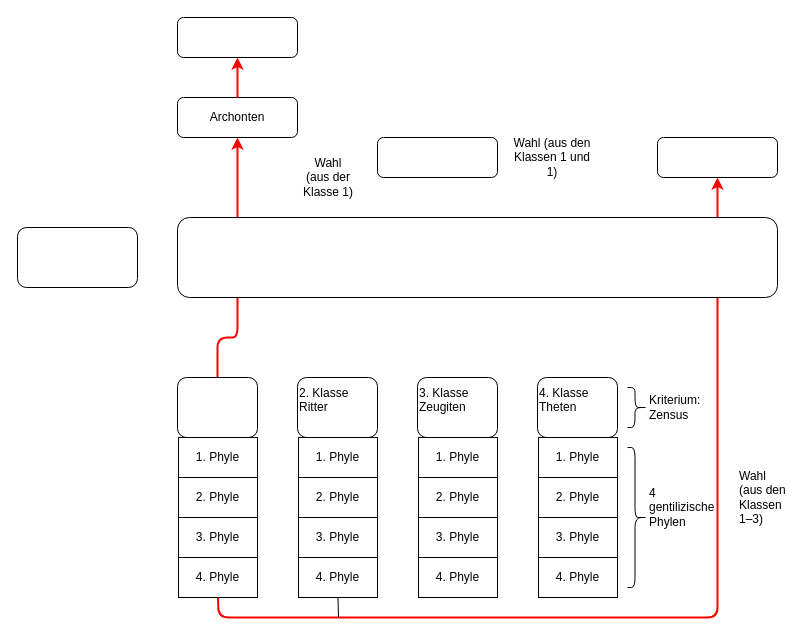
The diagram is 805 pixels wide and 644 high, and some of its shapes have lost their labels. The shapes that lost their labels are listed below. From the top down, each one's centre as x and y in pixels, then its label:
pixel 237 37: Areopag
pixel 437 157: hohe Beamte
pixel 717 157: Rat der 400 (?)
pixel 77 257: Gerichtshöfe
pixel 477 257: Volksversammlung
pixel 217 407: 1. Klasse Fünfhundert- scheffler
